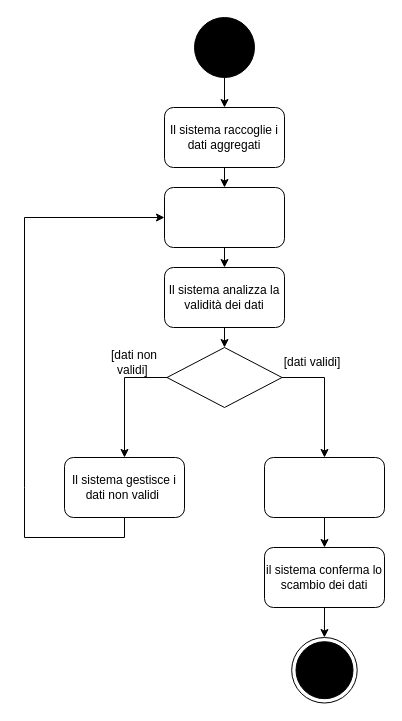
Some shapes in this 402 by 721 pixel diagram are drawn without their labels. The box of each missing label's shape, as (x1, y1, x2, y2) in pixels:
Il sistema invia i dati aggregati: (264, 456, 384, 518)
Il sistema prepara il pacchetto dei dati aggragati: (164, 186, 284, 248)
